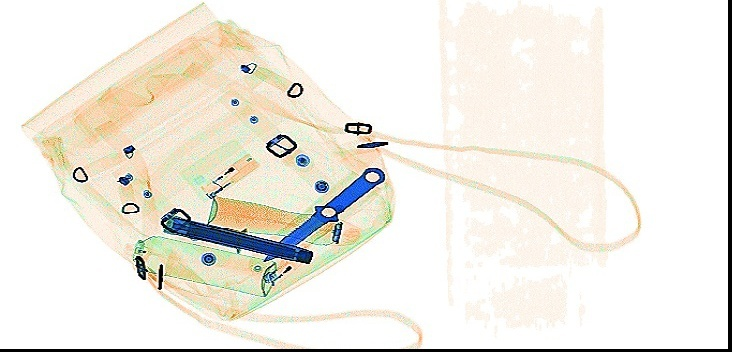knife: (260, 164, 386, 261), (162, 214, 308, 261)
lighter: (198, 150, 258, 199), (258, 246, 313, 282)
pressure: (120, 233, 277, 297), (205, 193, 360, 245)
